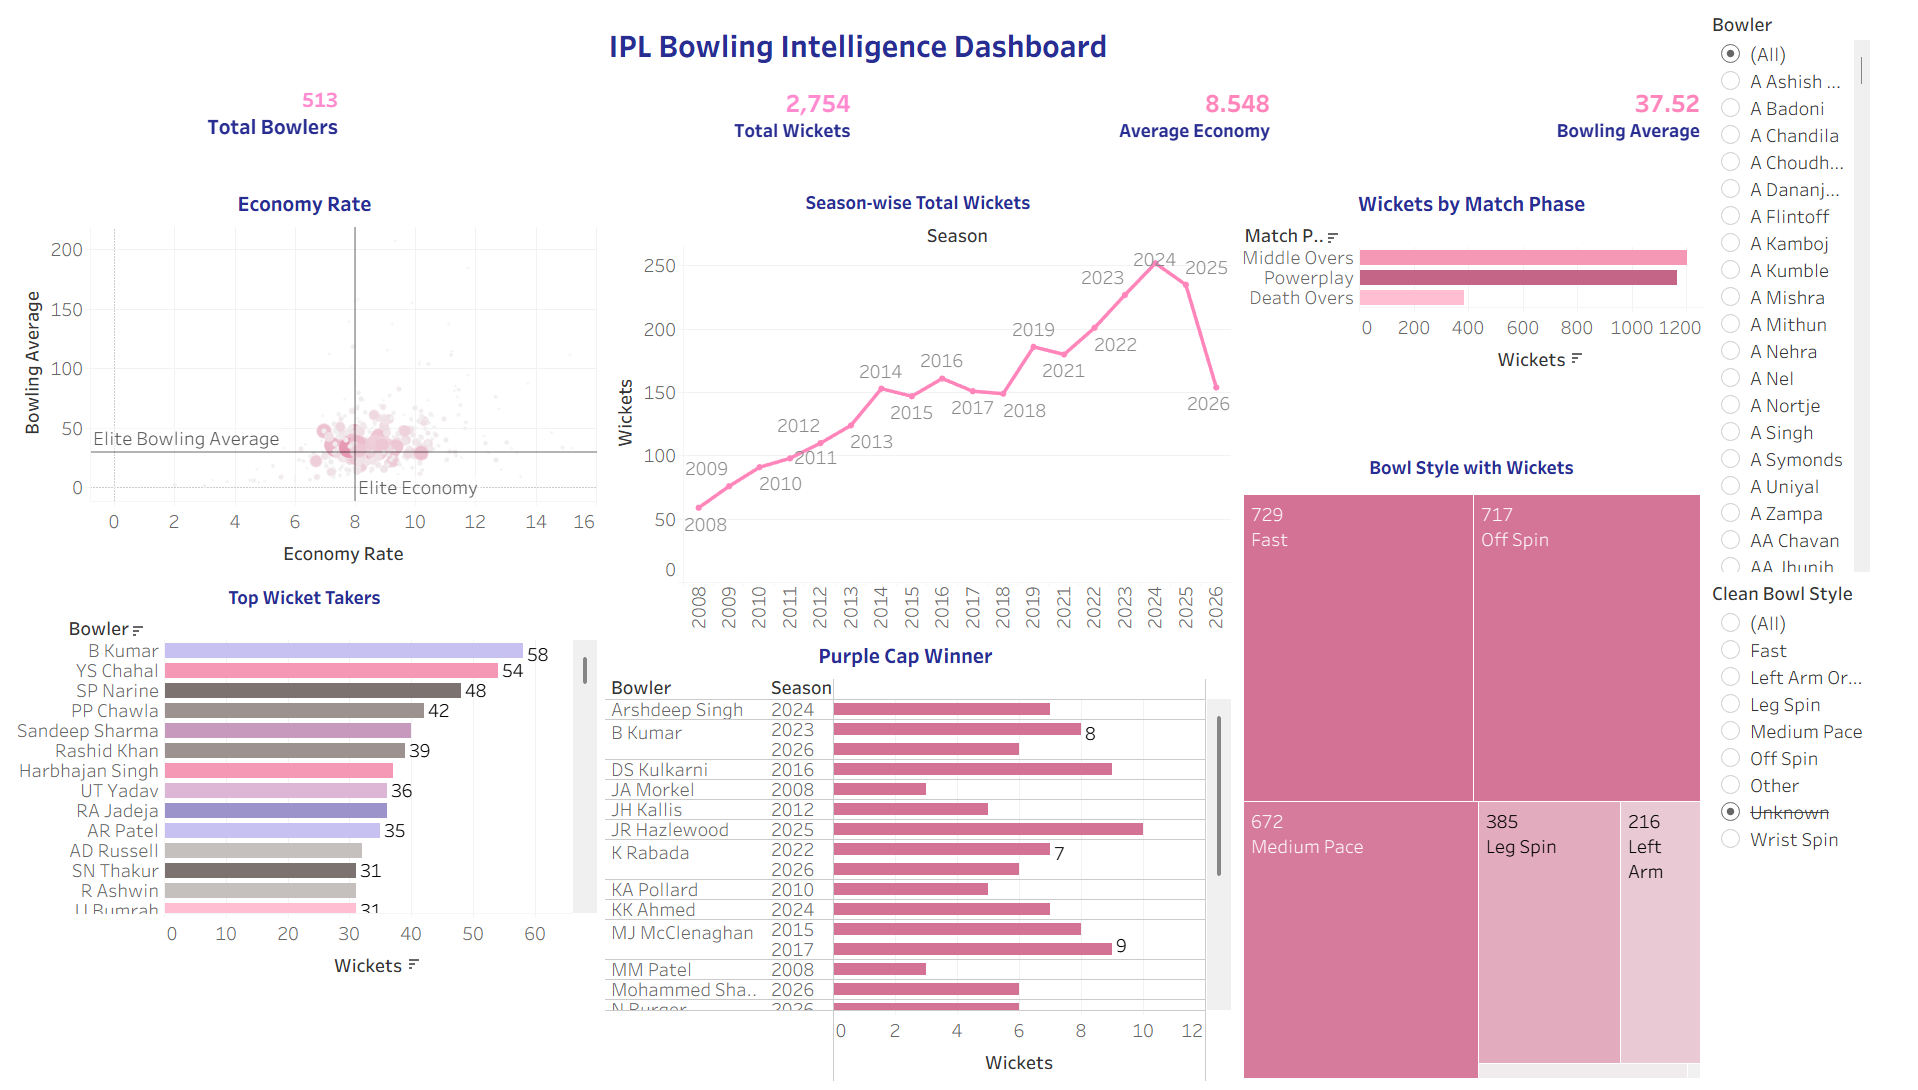

The dashboard page shown, as its layout file describes it:
{"tool":"tableau","page":{"name":"Bowling Intelligence Dashboard","canvas":[1000,1000],"units":"permille","ordinal":1},"visuals":[{"type":"text","box":[5.3,9.2,878.6,68.1]},{"type":"filter","title":"purple cap winner","param":"[federated.1uog4mz0wysp1w1ajm3uv0qoibsc].[none:bowler:nk]","box":[884,9.2,110.7,657.1]},{"type":"worksheet","title":"Total Bowlers","mark":"Automatic","box":[5.3,77.3,265.1,90.1]},{"type":"worksheet","title":"Total Wickets kpi","mark":"Automatic","box":[270.4,77.3,174.1,90.1]},{"type":"worksheet","title":"Avg Economy","mark":"Automatic","box":[444.6,77.3,217.2,90.1]},{"type":"worksheet","title":"Bowling Average","mark":"Automatic","box":[661.7,77.3,222.3,90.1]},{"type":"worksheet","title":"Economy Rate","mark":"Circle","rows":["Calculation_640918532662628355"],"cols":["Calculation_640918532662767620"],"box":[5.3,167.4,306.4,411.7]},{"type":"worksheet","title":"Season-wise Total Wickets","mark":"Line","rows":["Calculation_461056022483173382"],"cols":["season"],"box":[311.7,167.4,327.8,411.7]},{"type":"worksheet","title":"Wickets by Match Phase","mark":"Automatic","rows":["Calculation_1236519581957750784"],"cols":["Calculation_461056022483173382"],"box":[639.5,167.4,244.4,241.3]},{"type":"worksheet","title":"Bowl Style 2","mark":"Automatic","box":[639.5,408.8,244.4,582]},{"type":"worksheet","title":"Total Wickets taker","mark":"Automatic","rows":["bowler"],"cols":["Calculation_461056022483173382"],"box":[5.3,579.1,306.4,411.7]},{"type":"worksheet","title":"purple cap winner","mark":"Automatic","rows":["bowler","season"],"cols":["Calculation_461056022483173382"],"box":[311.7,579.1,327.8,411.7]},{"type":"filter","title":"Avg Economy","param":"[federated.1uog4mz0wysp1w1ajm3uv0qoibsc].[none:Calculation_640918532667703301:nk","box":[884,666.3,110.7,324.5]}]}

Visuals, with their boxes on the dashboard's canvas, which has no fixed pixel size, in thousandths of its width and height (x1, y1, x2, y2). These are canvas units, not pixel positions in the 1918x1090 screenshot, which may show the page scaled, cropped or inside an application window:
text: rect(5, 9, 884, 77)
"purple cap winner" filter: rect(884, 9, 995, 666)
"Total Bowlers" worksheet: rect(5, 77, 270, 167)
"Total Wickets kpi" worksheet: rect(270, 77, 444, 167)
"Avg Economy" worksheet: rect(445, 77, 662, 167)
"Bowling Average" worksheet: rect(662, 77, 884, 167)
"Economy Rate" worksheet (Circle marks): rect(5, 167, 312, 579)
"Season-wise Total Wickets" worksheet (Line marks): rect(312, 167, 640, 579)
"Wickets by Match Phase" worksheet: rect(640, 167, 884, 409)
"Bowl Style 2" worksheet: rect(640, 409, 884, 991)
"Total Wickets taker" worksheet: rect(5, 579, 312, 991)
"purple cap winner" worksheet: rect(312, 579, 640, 991)
"Avg Economy" filter: rect(884, 666, 995, 991)
